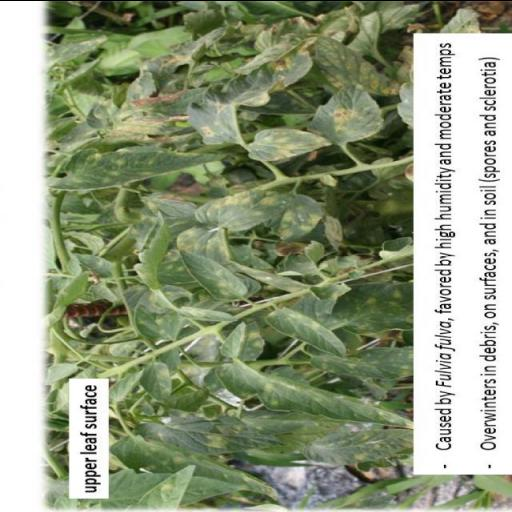Leaf Mold: (218, 364, 410, 430), (192, 40, 313, 144), (54, 149, 232, 196), (314, 33, 394, 97), (154, 418, 290, 454), (306, 82, 386, 142), (264, 306, 352, 358), (192, 189, 288, 231), (178, 248, 248, 300), (245, 127, 332, 160), (131, 300, 183, 340), (142, 356, 172, 402), (218, 318, 248, 362)
